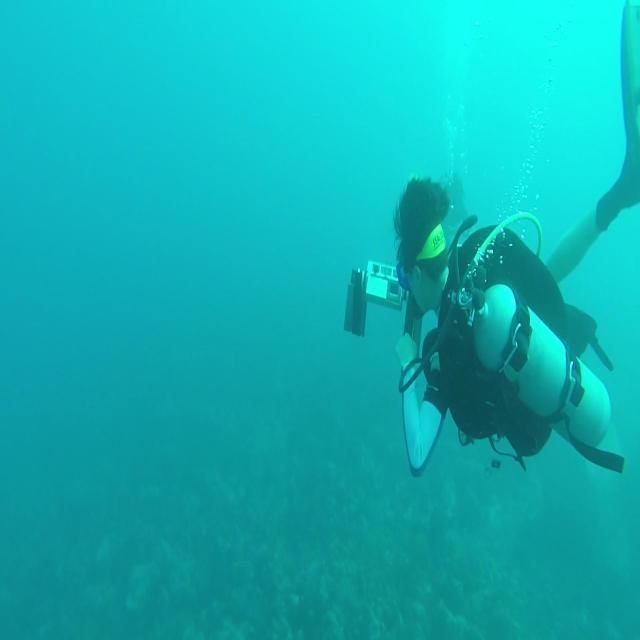human: (391, 172, 624, 478)
